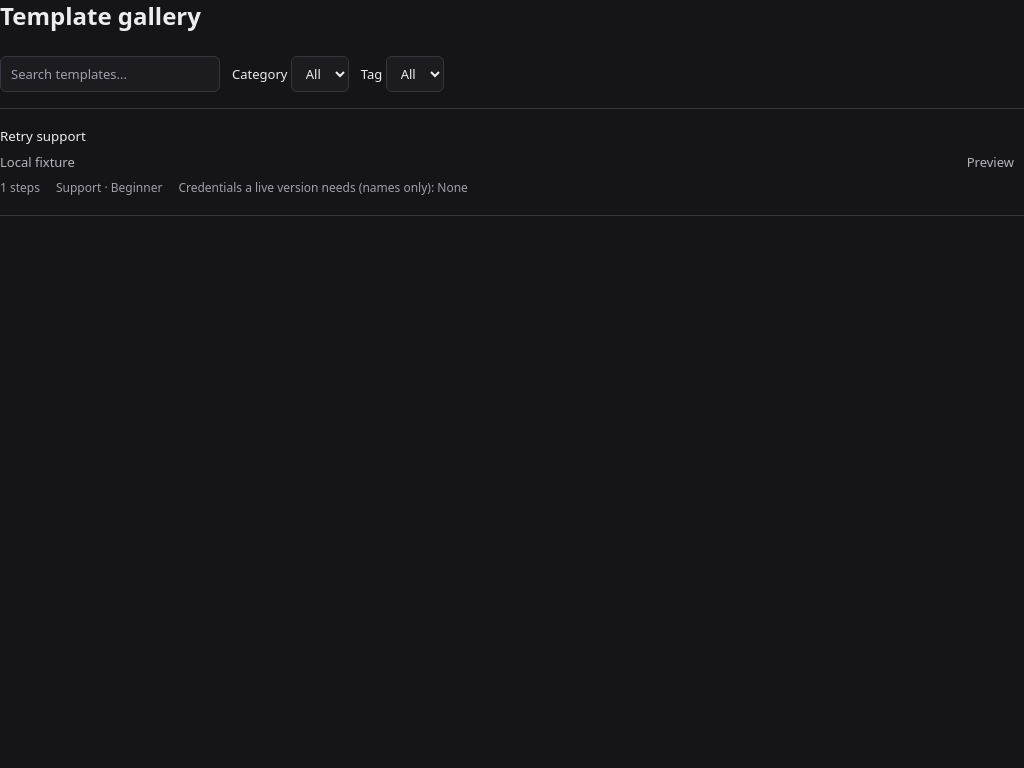
Scenario: clicking the same template after a failed detail request retries without a hash change
Click the button with test id "template-preview-retry-support": (43, 136) left=0, top=126, right=86, bottom=146
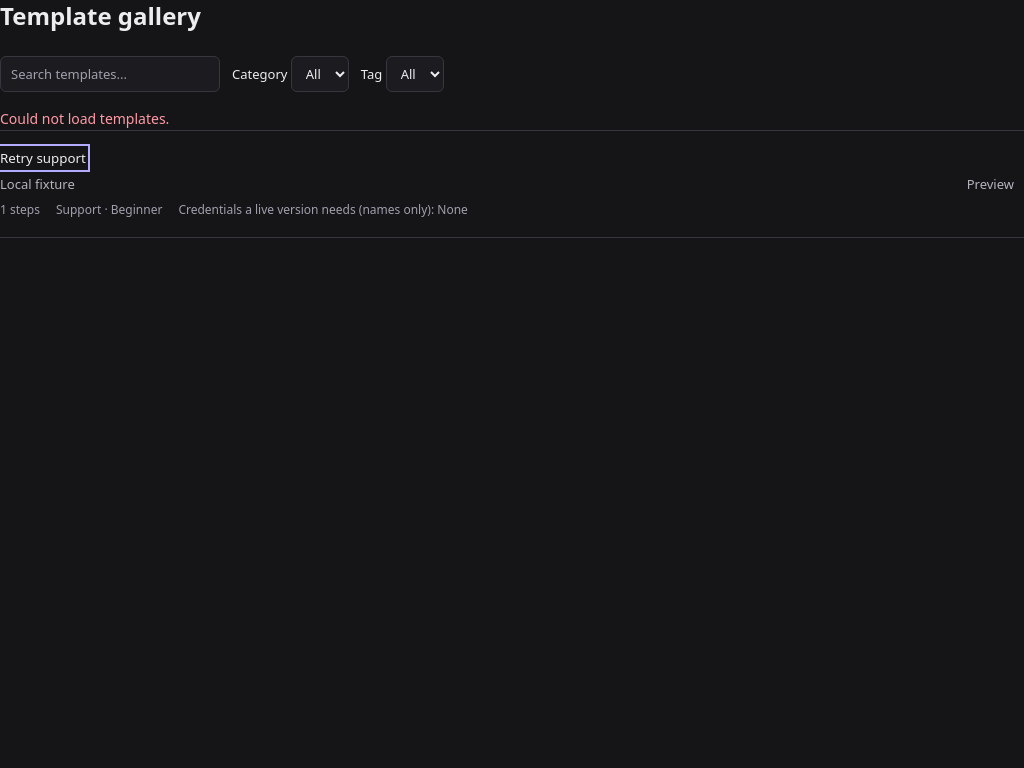
Expected: the message "Could not load templates." is shown, left=0, top=109, right=169, bottom=128
Click the button with test id "template-preview-retry-support": (43, 158) left=0, top=148, right=86, bottom=168
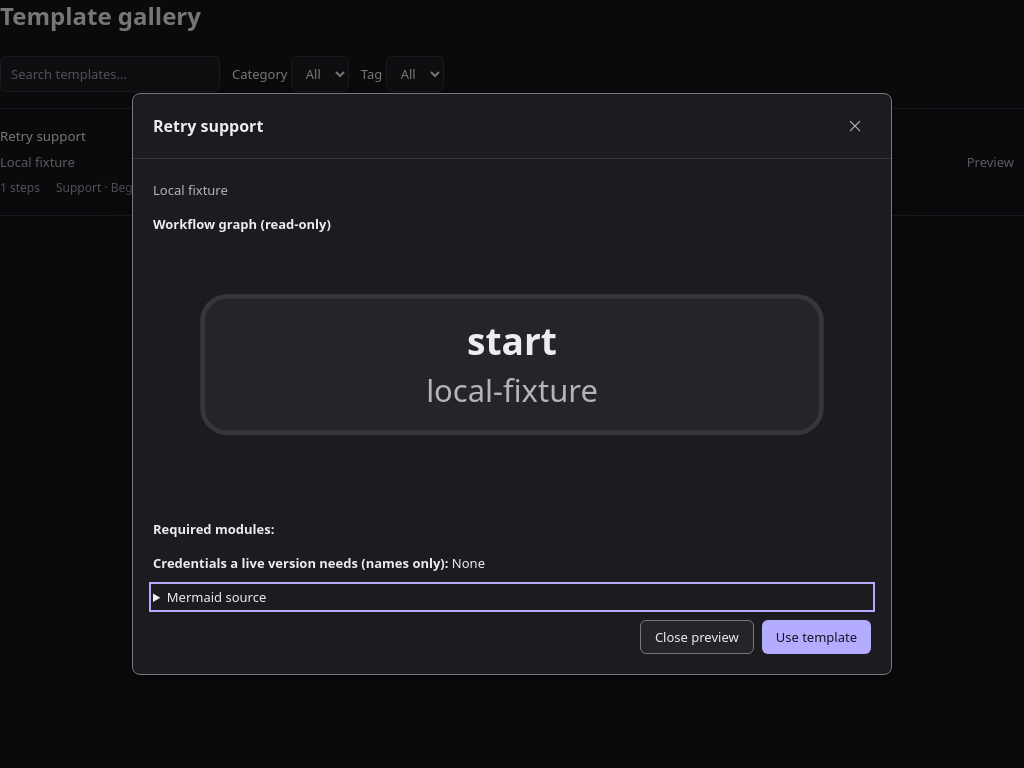
Expected: the element with test id "template-preview" is shown, left=153, top=178, right=871, bottom=654
Expected: the message "Could not load templates." is gone
